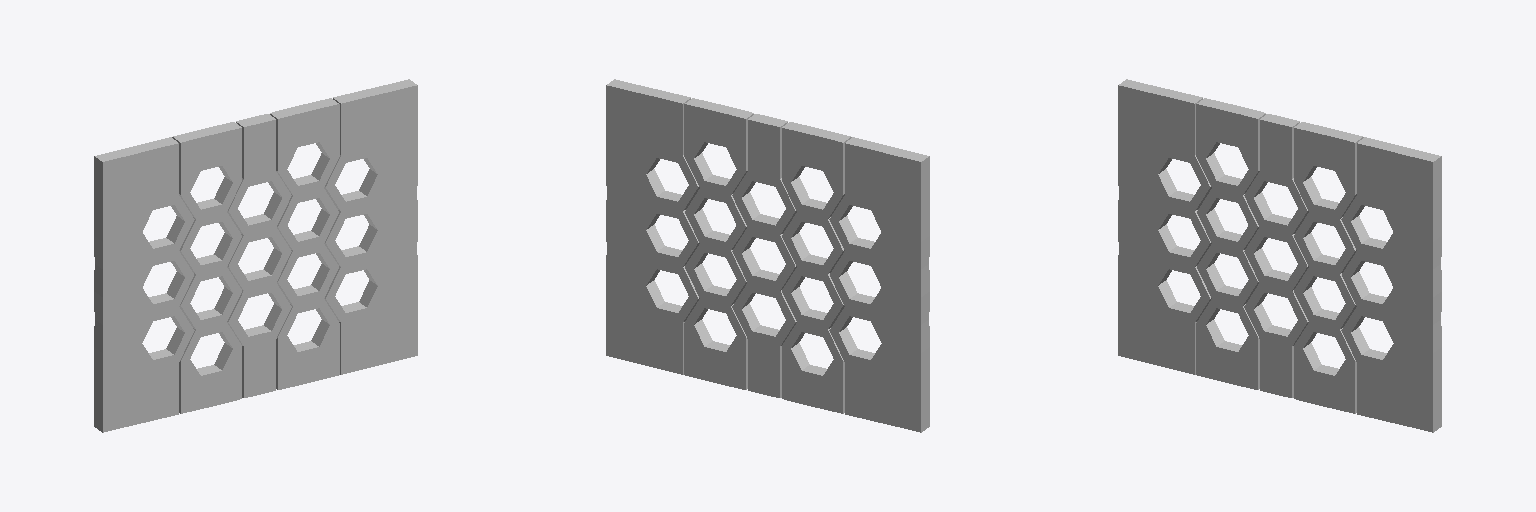
File: panel1.OBJ
3 views of the same model, side by side, from view 1: azimuth 30°, elevation 25°; view 2: azimuth 150°, elevation 25°; view 3: azimuth 330°, elevation 25° (orthographic).
Visible parts, largest first — view 1: Group49495; view 2: Group49495; view 3: Group49495.
Boxes of the visible parts, x1,y1,x2,y2 form: Group49495: [94, 79, 417, 432]; Group49495: [606, 79, 929, 432]; Group49495: [1118, 79, 1441, 432].
Size of the model in its own units: 1.99 by 1.64 by 0.0904.